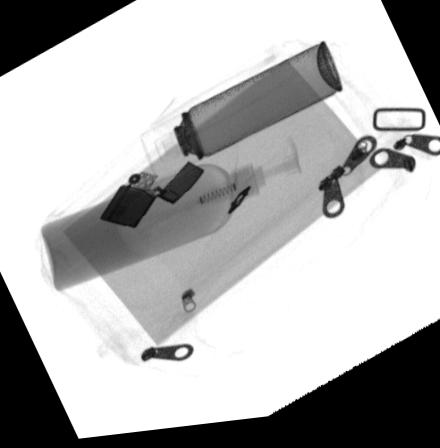Lighter: (99, 165, 205, 232)
Sprayer: (139, 48, 343, 188)
